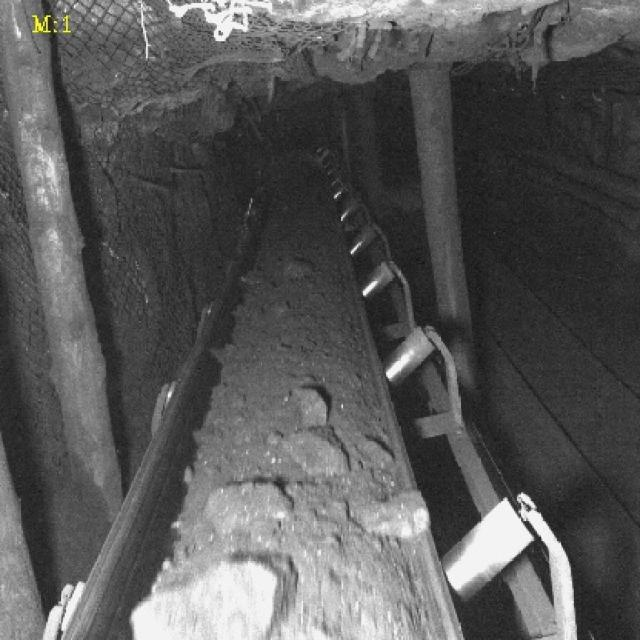large_sized_coal: (128, 555, 295, 640), (198, 480, 294, 531), (356, 488, 426, 540), (280, 426, 349, 477), (291, 382, 335, 426)
